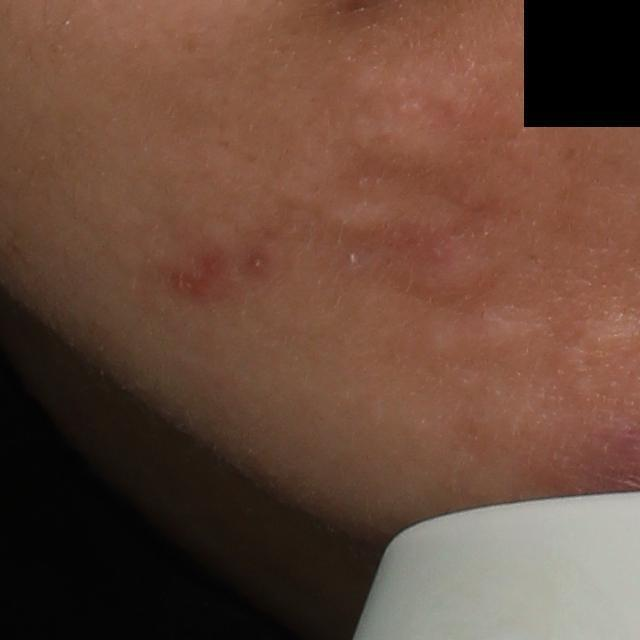hypertrophic_scar: (346, 108, 470, 178), (317, 199, 460, 242), (472, 309, 535, 363), (414, 317, 460, 367)
